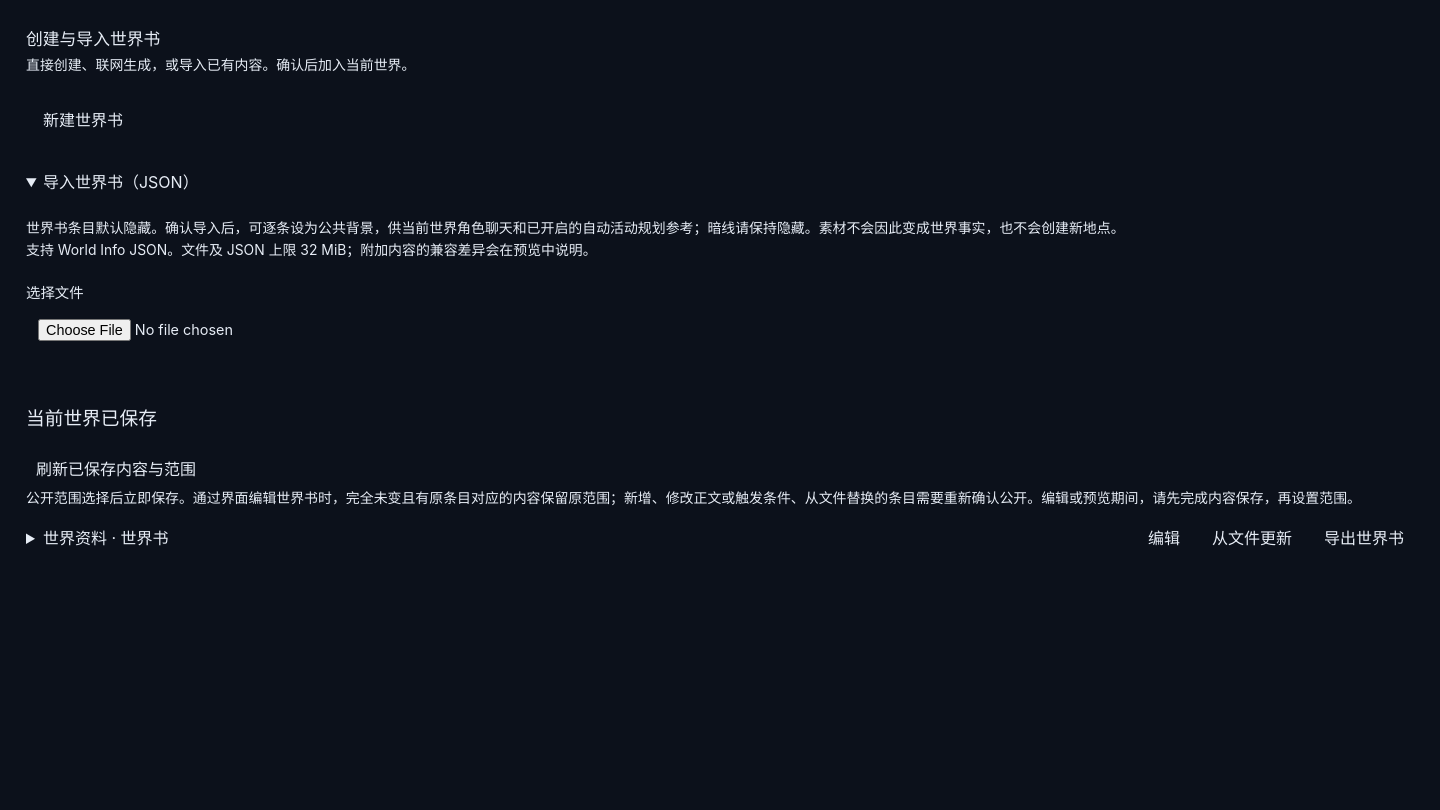
keeps imported lore hidden until the current world explicitly exposes an entry
The image size is (1440, 810).
Click the heading "世界资料 · 世界书". click: (106, 538)
box: top-left (43, 528), bottom-right (168, 548)
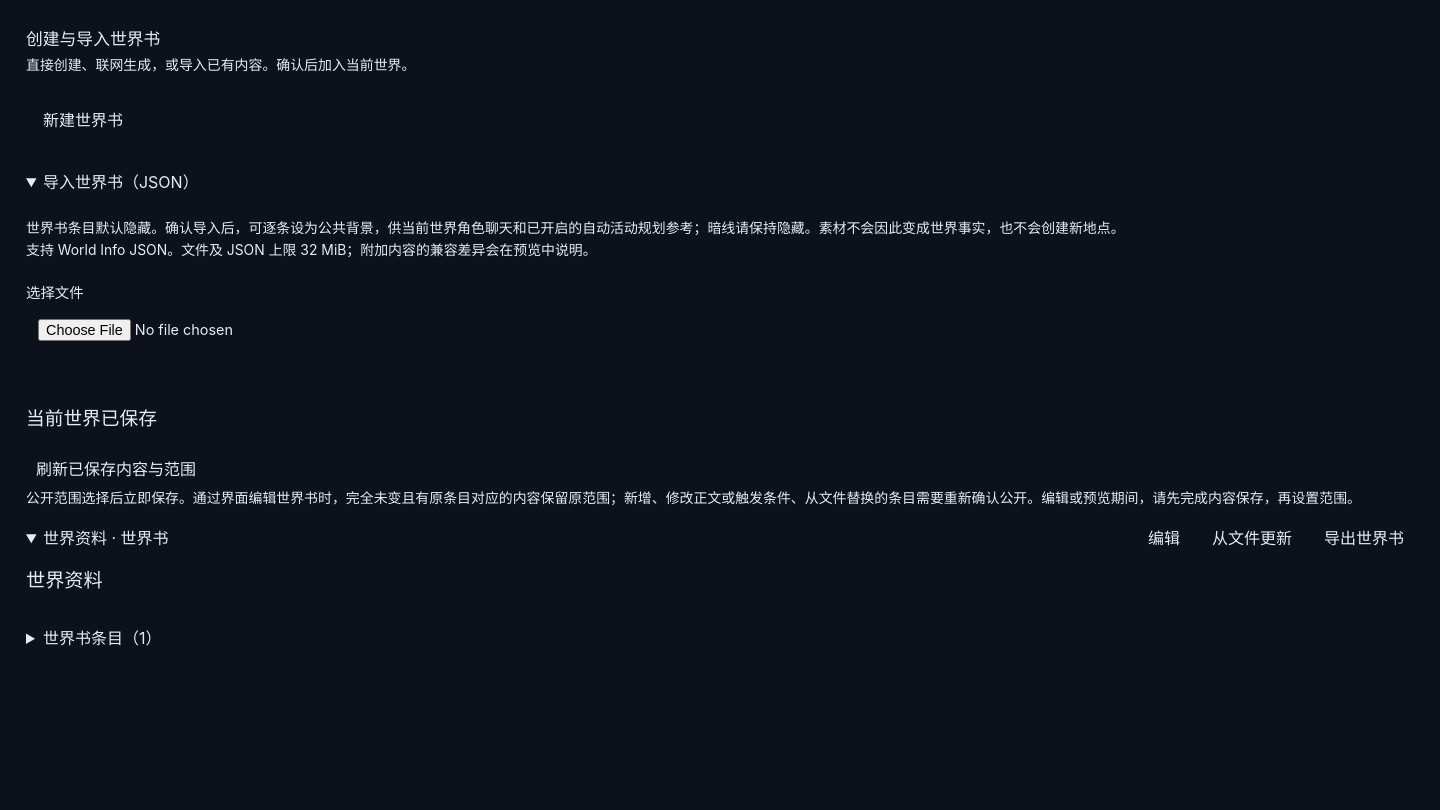
Click the heading "世界书条目（1）". click: (102, 638)
box: top-left (43, 628), bottom-right (161, 648)
(page scrolled)
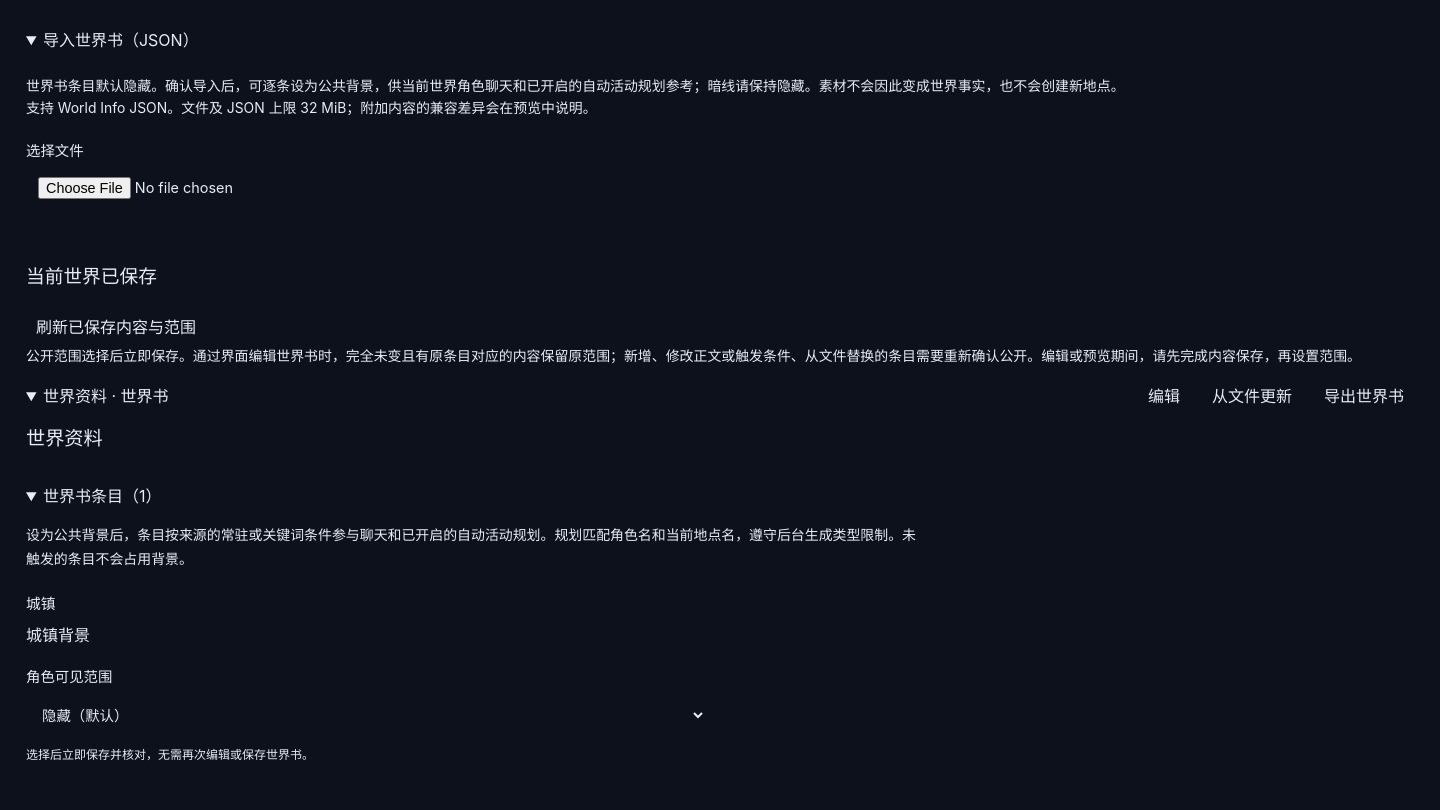
Check: the dropdown labelled "角色可见范围 选择后立即保存并核对，无需再次编辑或保存世界书。" shows "隐藏（默认）"
Select "公共背景（所有角色可见）" in the dropdown labelled "角色可见范围 选择后立即保存并核对，无需再次编辑或保存世界书。". click: (366, 715)
box: top-left (26, 694), bottom-right (706, 737)
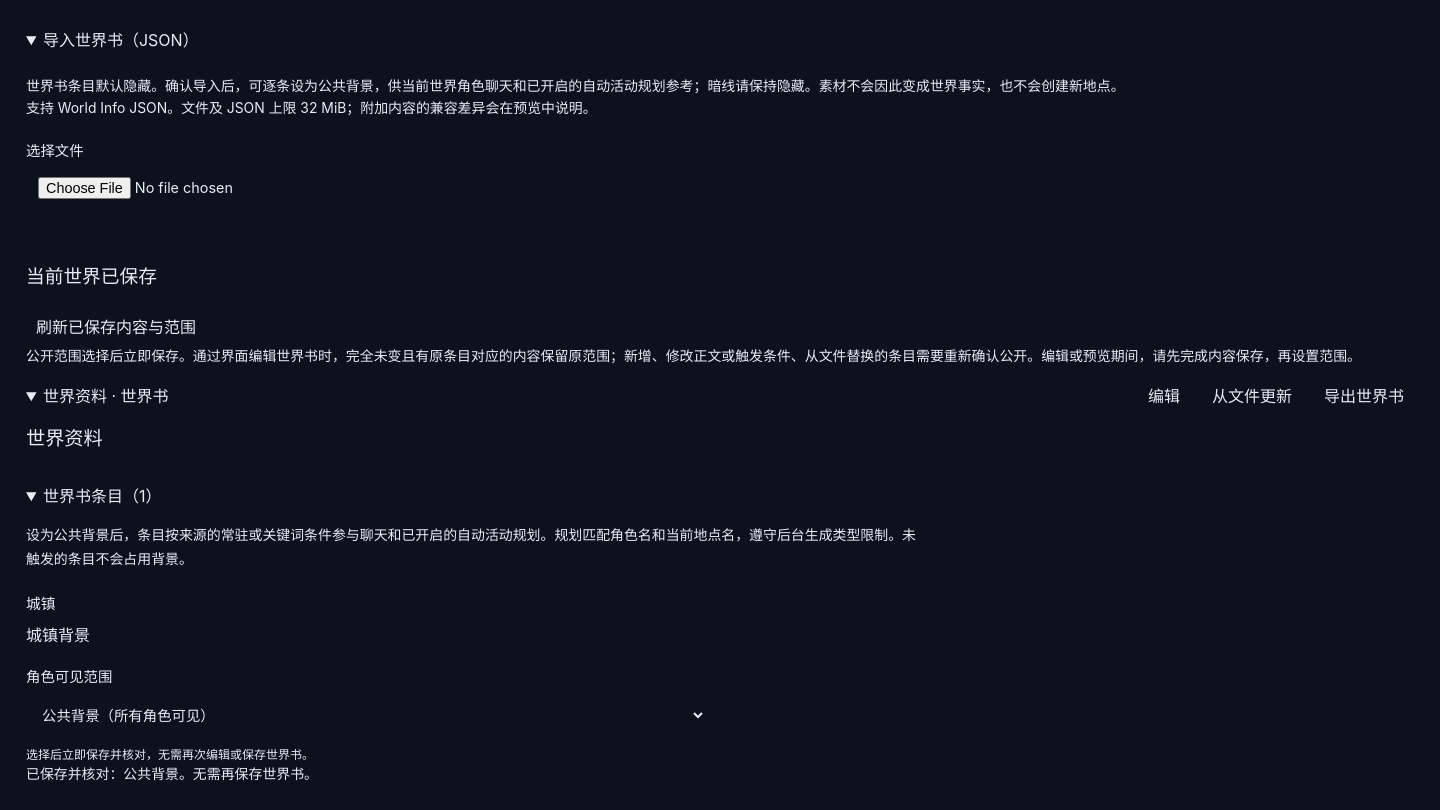
Check: the text "已保存并核对：公共背景。无需再保存世界书。" is shown, box top-left (26, 766), bottom-right (318, 782)
